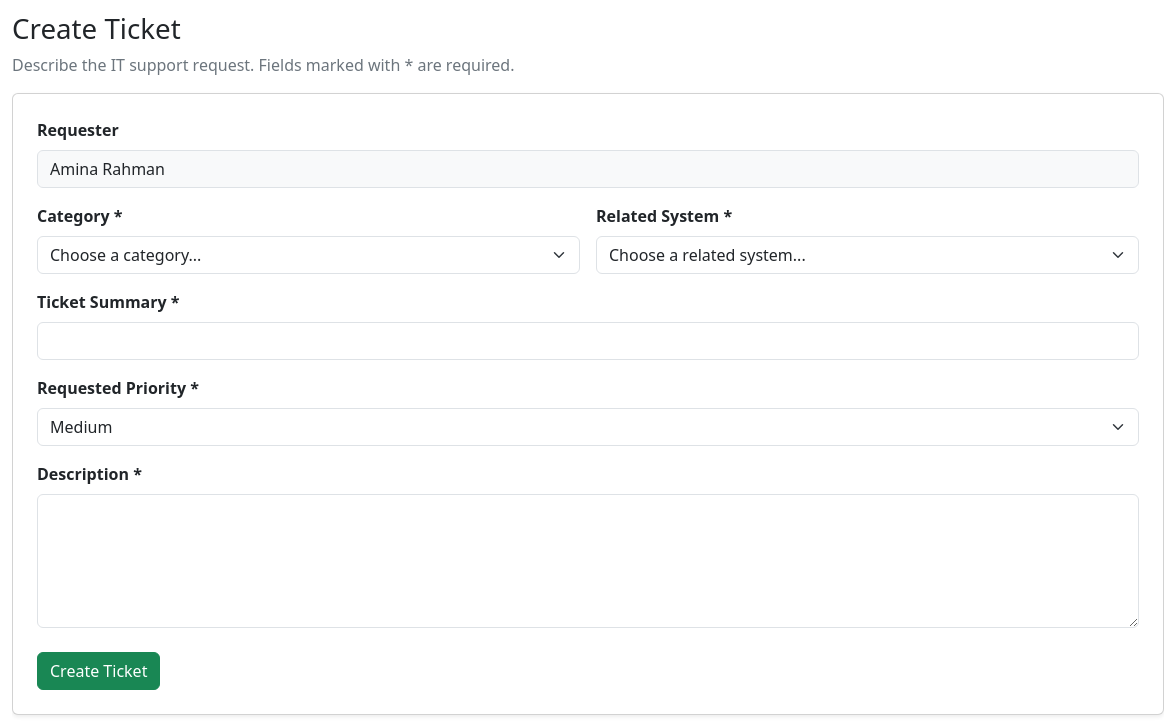
Test case: Create Ticket › submits valid input and displays the backend Ticket Number
Select "Software" in the dropdown labelled "Category *" at {"x": 308, "y": 255}, box [37, 236, 580, 274]
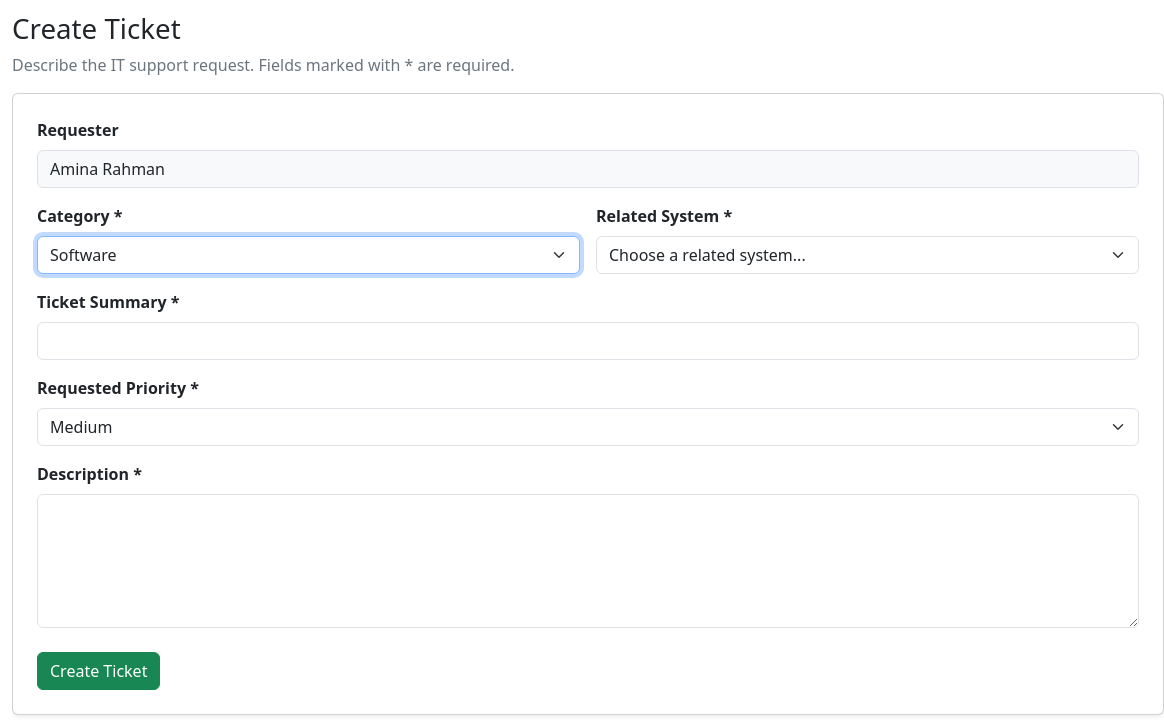
Select "VPN" in the dropdown labelled "Related System *" at {"x": 868, "y": 255}, box [596, 236, 1139, 274]
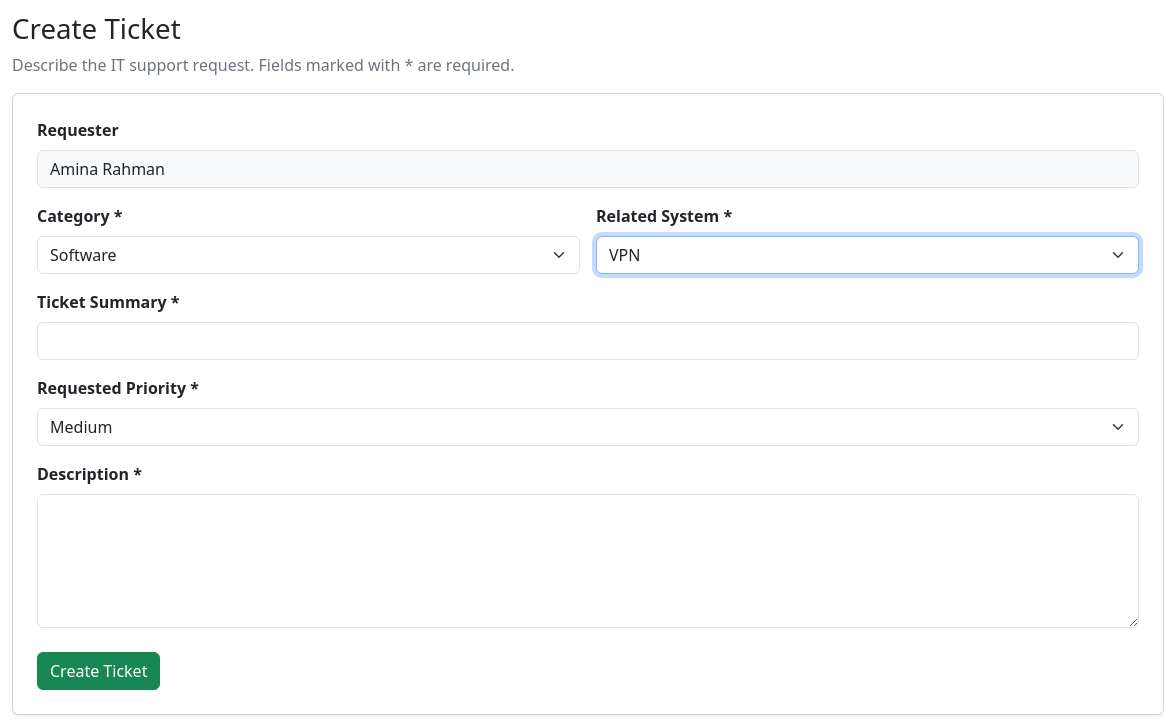
Type "VPN disconnects during online exam" into the field labelled "Ticket Summary *" at {"x": 588, "y": 341}, box [37, 322, 1139, 360]
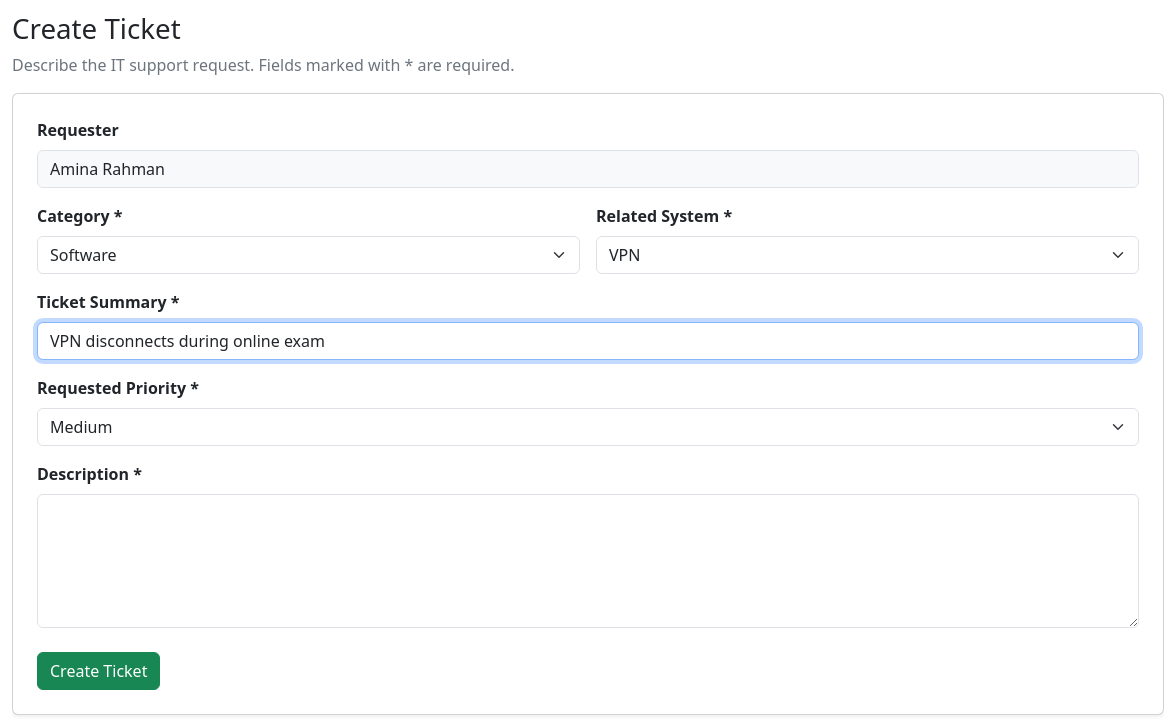
Select "High" in the dropdown labelled "Requested Priority *" at {"x": 588, "y": 427}, box [37, 408, 1139, 446]
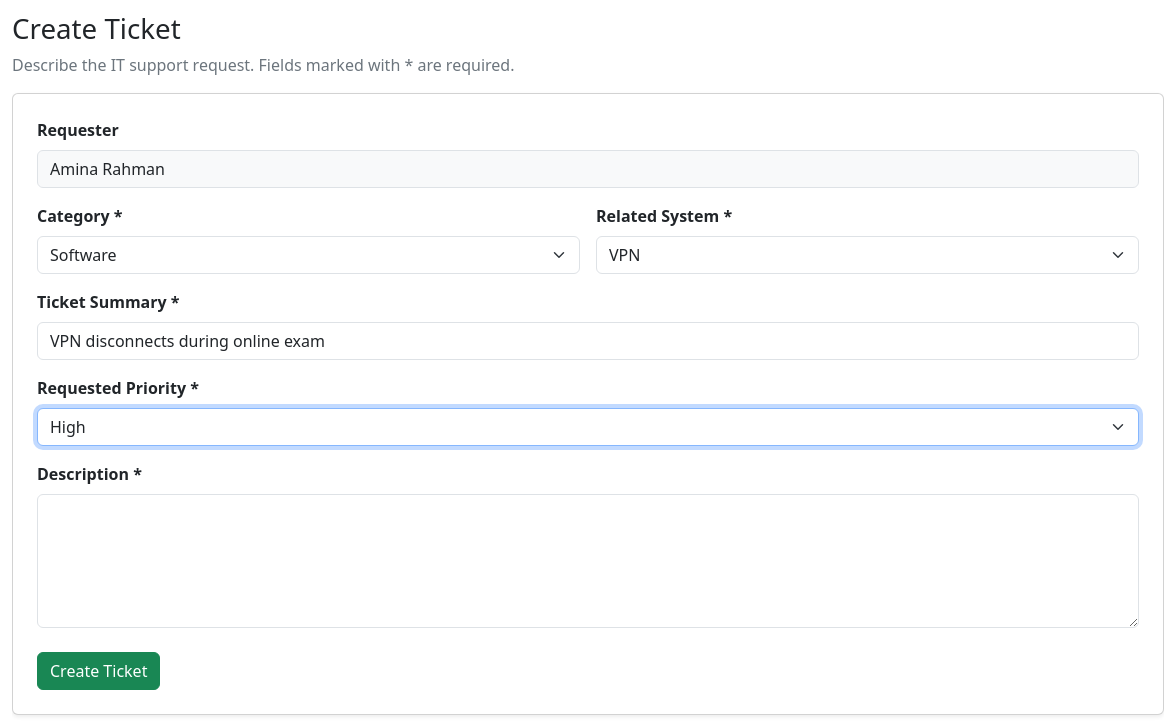
Type "The VPN disconnects after approximately five minutes during the online exam." into the text box labelled "Description *" at {"x": 588, "y": 561}, box [37, 494, 1139, 628]
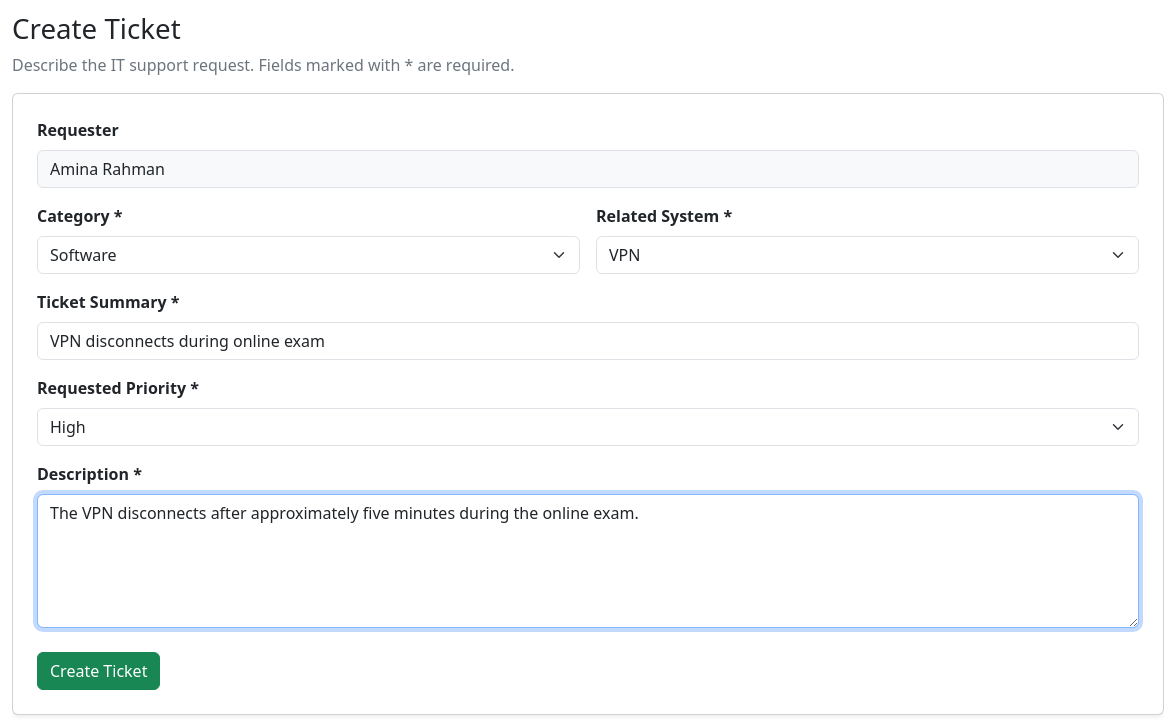
Click the button "Create Ticket" at {"x": 99, "y": 671}, box [37, 652, 160, 690]
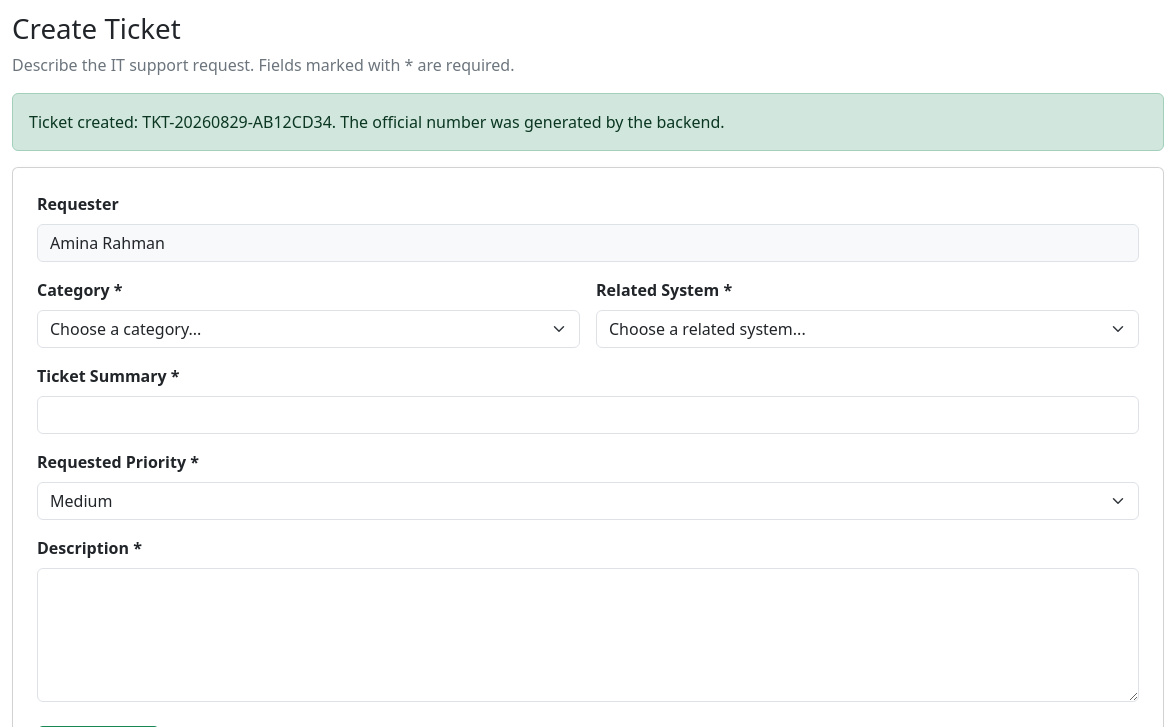
Now the text "TKT-20260829-AB12CD34" is shown, box [29, 111, 724, 133]
